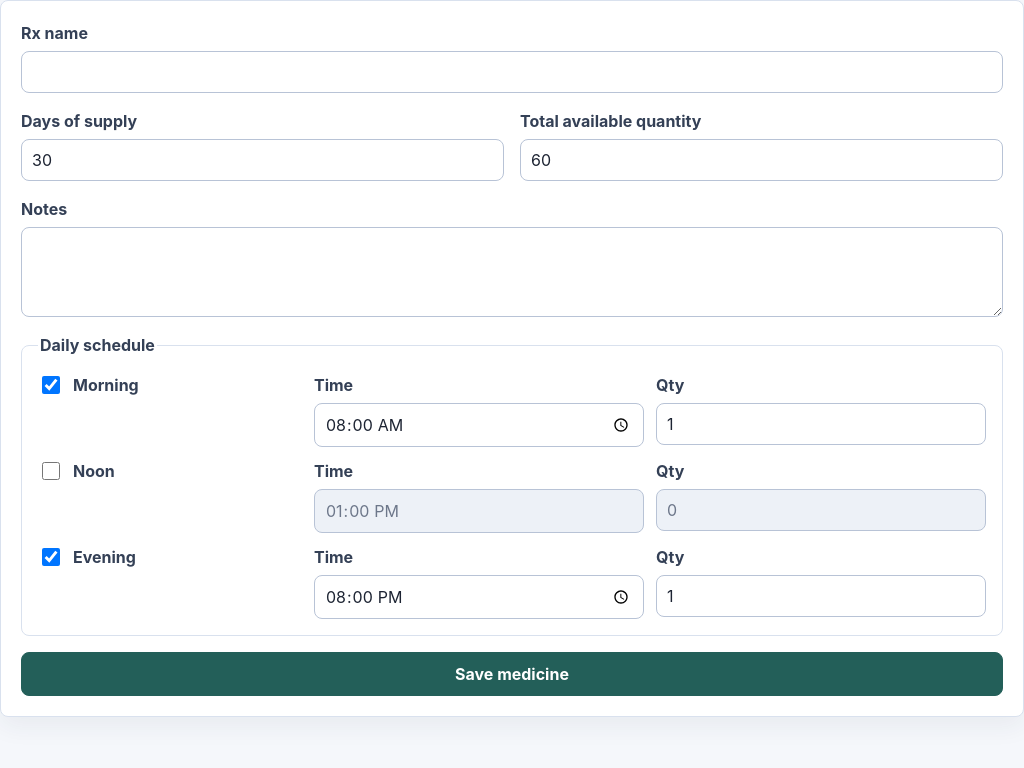
Scenario: MedicineForm › shows field-level validation before saving
Clear the field labelled "Rx name" at (512, 72), box [21, 51, 1003, 93]
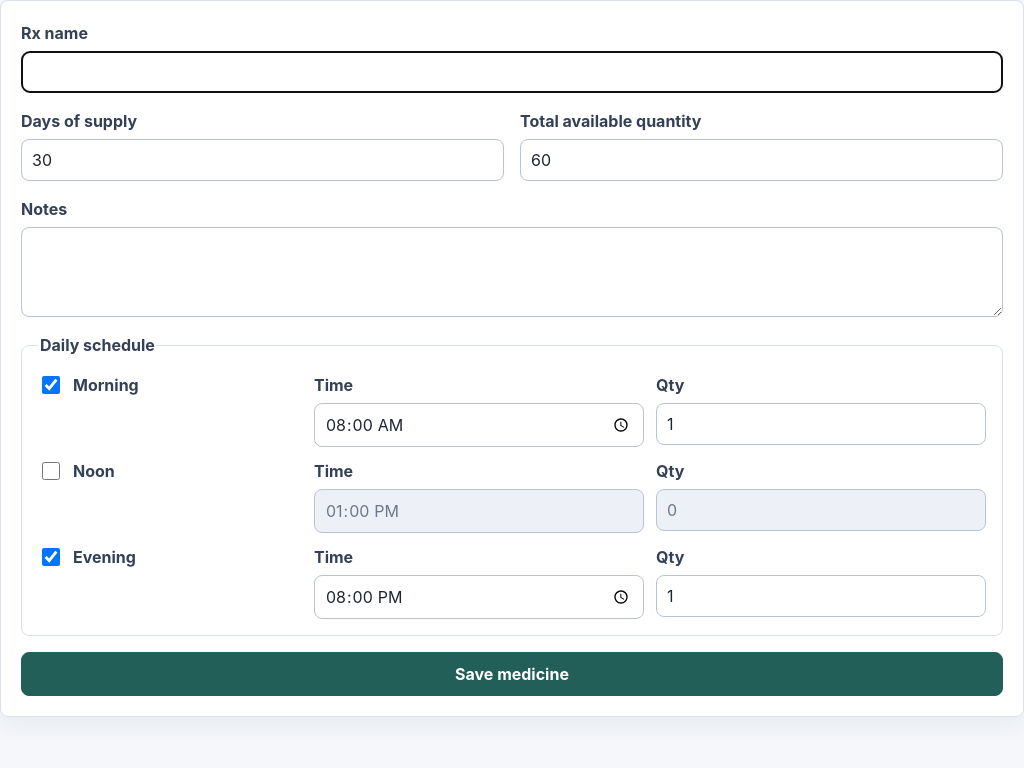
Click the button "Save medicine" at (512, 674), box [21, 652, 1003, 696]
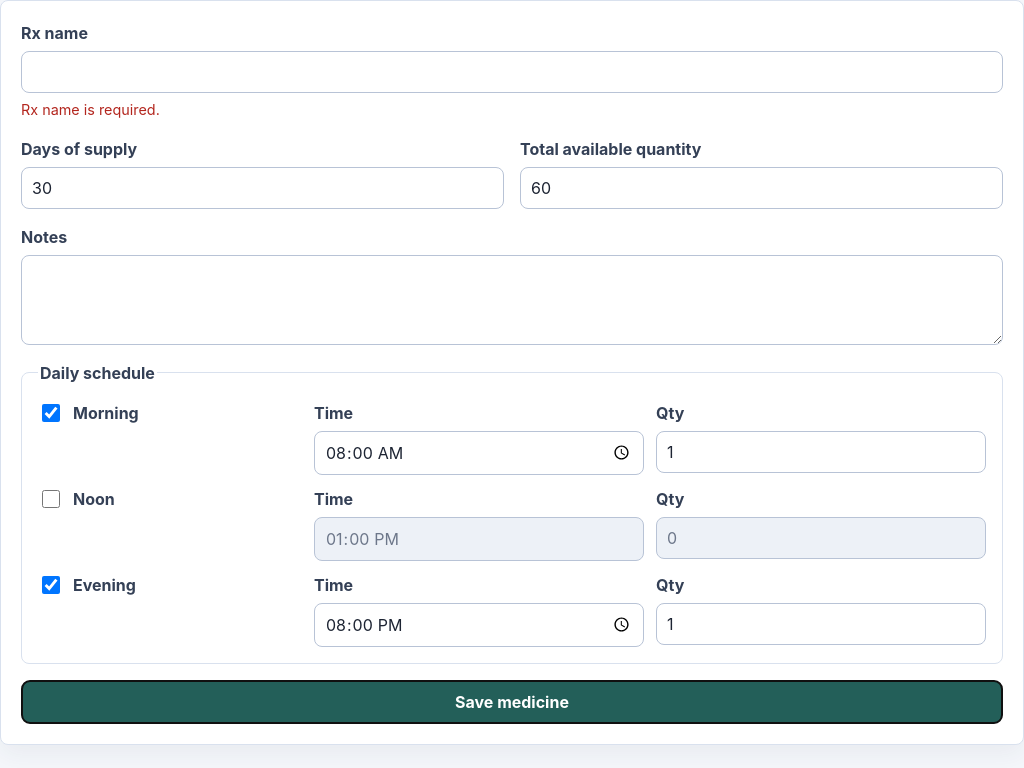
Now the text "Rx name is required." is shown, box [21, 101, 160, 118]
